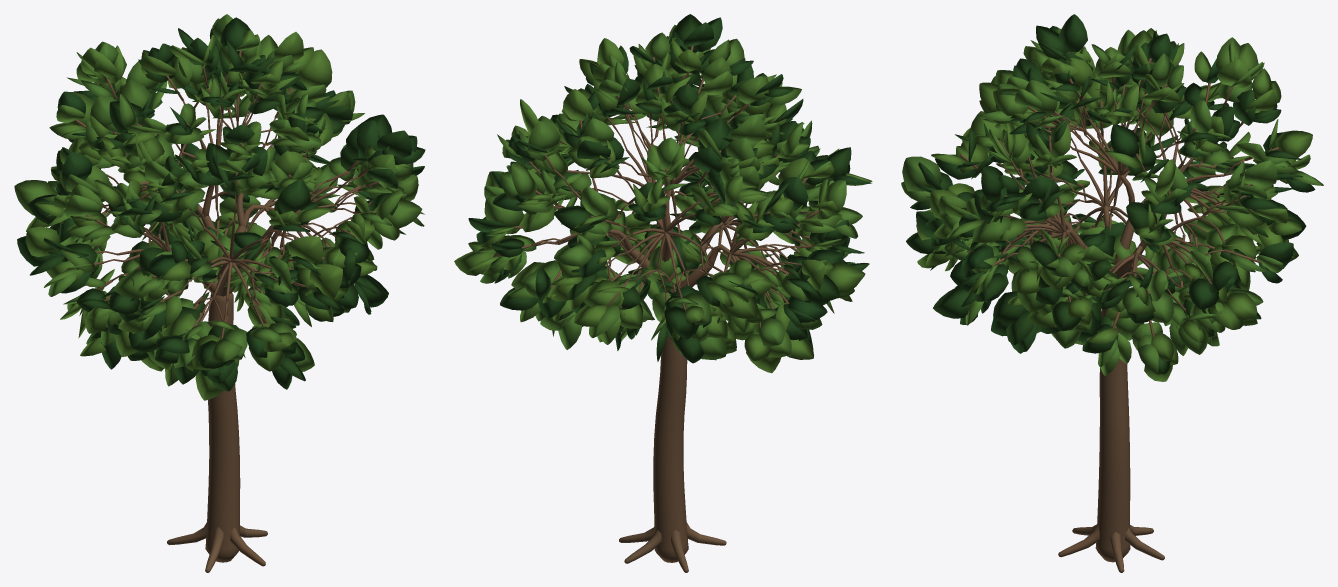
File: tree_far.glb
3 renders of one model, left to right at view 1: azimuth 30°, elevation 25°; view 2: azimuth 150°, elevation 25°; view 3: azimuth 270°, elevation 25°, orthographic.
Parts seen in each view (by area): view 1: Sammel Pflanze, Sammel Holz; view 2: Sammel Pflanze, Sammel Holz; view 3: Sammel Pflanze, Sammel Holz.
Boxes of the visible parts, x1,y1,x2,y2 form: Sammel Pflanze: (14,14,425,400); Sammel Holz: (65,50,378,572); Sammel Pflanze: (454,14,872,373); Sammel Holz: (493,46,821,572); Sammel Pflanze: (901,14,1323,381); Sammel Holz: (959,52,1278,572).
Bounding box in the file's own units: 3.9 × 5.45 × 3.89.
